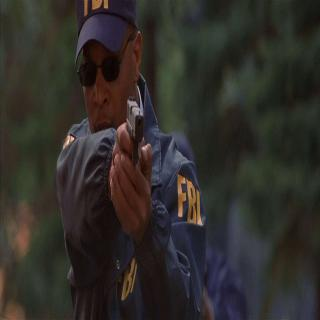gun: (122, 90, 148, 229)
